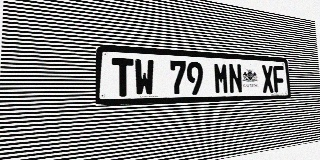7: (169, 60, 187, 95)
9: (187, 61, 204, 95)
F: (273, 65, 285, 93)
M: (213, 63, 229, 94)
N: (228, 63, 243, 94)
T: (112, 58, 134, 97)
W: (134, 59, 155, 96)
X: (261, 65, 274, 93)
